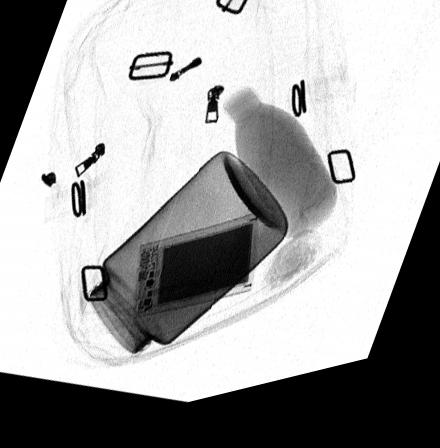Powerbank: (132, 225, 258, 326)
